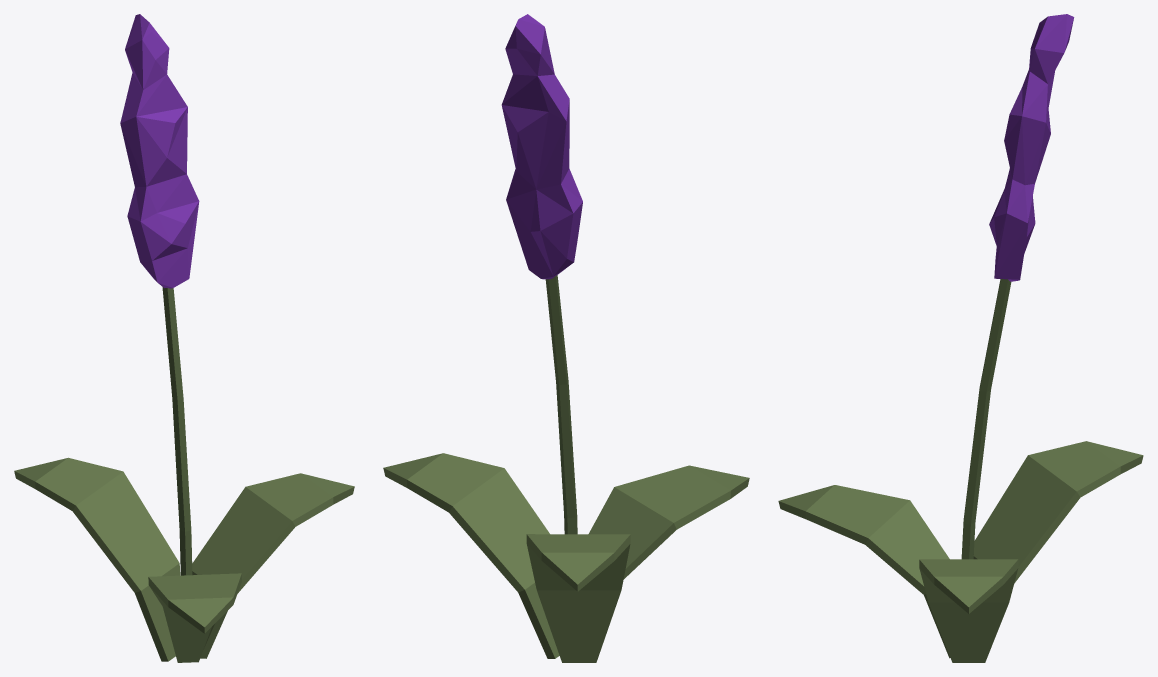
The model's file is SM_Envr_Nature_Plant_Flower_01.fbx.
3 renders of one model, left to right at view 1: azimuth 30°, elevation 25°; view 2: azimuth 150°, elevation 25°; view 3: azimuth 270°, elevation 25°, orthographic. The views are drawn at different scales.
Visible parts, largest first — view 1: SM_Envr_Nature_Plant_Flower_01; view 2: SM_Envr_Nature_Plant_Flower_01; view 3: SM_Envr_Nature_Plant_Flower_01.
Part boxes in pixels (x1=…): SM_Envr_Nature_Plant_Flower_01: x1=14, y1=14, x2=354, y2=662; SM_Envr_Nature_Plant_Flower_01: x1=383, y1=14, x2=749, y2=662; SM_Envr_Nature_Plant_Flower_01: x1=778, y1=14, x2=1143, y2=662.
Size of the model in its own units: 30.28 by 66.63 by 34.32.
